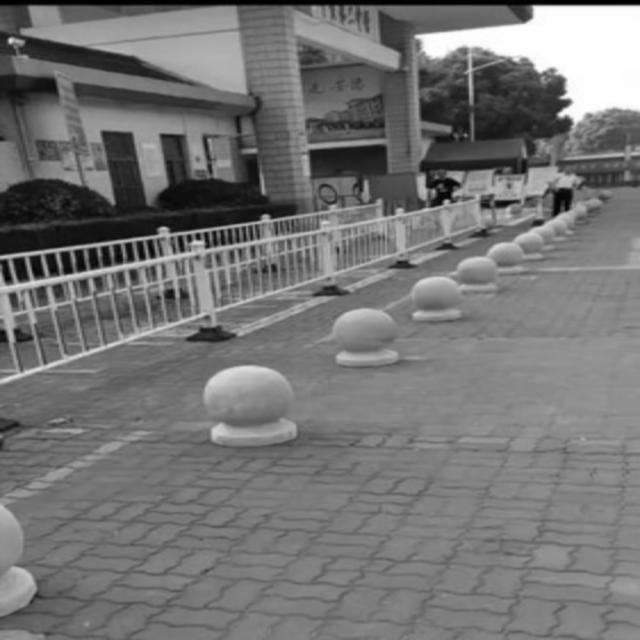spherical_roadblock: (198, 363, 298, 445), (330, 306, 399, 364), (406, 274, 464, 320), (453, 254, 499, 294), (488, 240, 526, 274), (510, 230, 544, 261)
